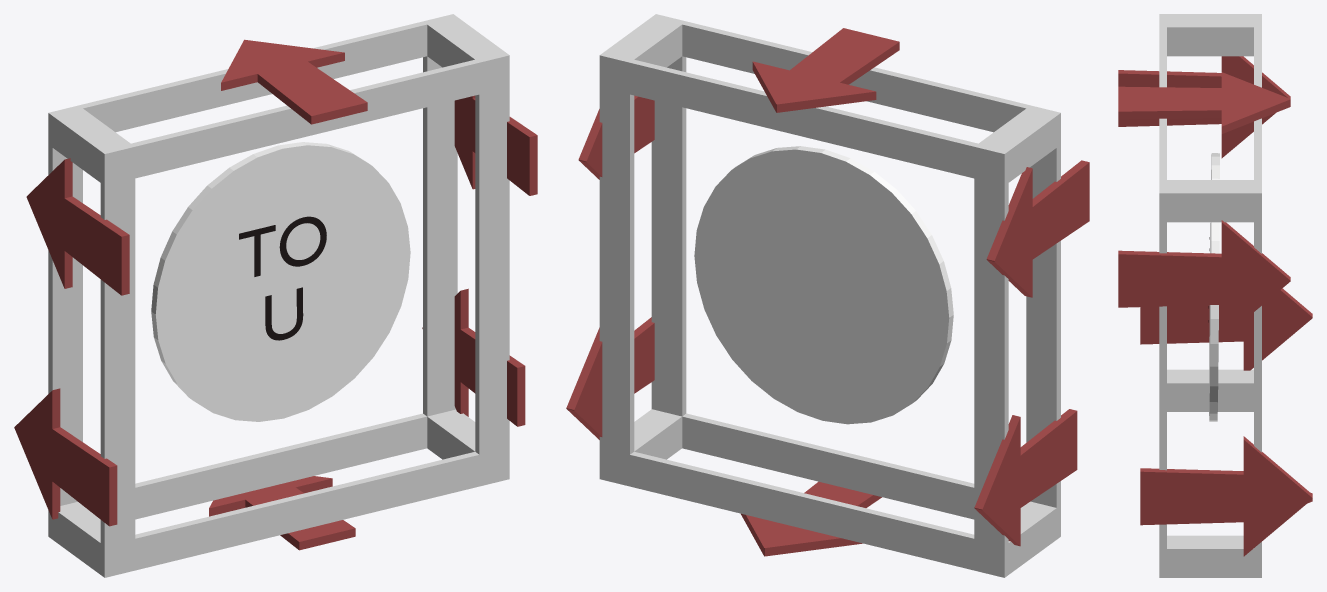
File: ToU.glb
3 views of the same model, side by side, from view 1: azimuth 30°, elevation 25°; view 2: azimuth 150°, elevation 25°; view 3: azimuth 270°, elevation 25° (orthographic). The views are drawn at different scales.
Parts seen in each view (by area): view 1: Cube, Cylinder.001, Cube.001, Cube.010, Cube.012, Cube.008, Cube.003, Cube.004, Text; view 2: Cube, Cylinder.001, Cube.001, Cube.010, Cube.012, Cube.003, Cube.004, Cube.008; view 3: Cube, Cube.003, Cube.008, Cube.012, Cube.001, Cube.010, Cylinder.001.
Part boxes in pixels (left/top/right/bottom): Cube: left=48, top=14, right=509, bottom=577; Cylinder.001: left=151, top=142, right=410, bottom=421; Cube.001: left=14, top=388, right=117, bottom=526; Cube.010: left=26, top=158, right=129, bottom=295; Cube.012: left=221, top=39, right=367, bottom=124; Cube.008: left=454, top=95, right=537, bottom=195; Cube.003: left=422, top=288, right=525, bottom=426; Cube.004: left=209, top=476, right=355, bottom=550; Text: left=239, top=216, right=326, bottom=340; Cube: left=599, top=14, right=1060, bottom=577; Cylinder.001: left=694, top=146, right=953, bottom=424; Cube.001: left=974, top=409, right=1077, bottom=546; Cube.010: left=986, top=160, right=1089, bottom=297; Cube.012: left=752, top=28, right=899, bottom=112; Cube.003: left=566, top=317, right=654, bottom=439; Cube.004: left=741, top=481, right=881, bottom=556; Cube.008: left=578, top=95, right=654, bottom=179; Cube: left=1159, top=14, right=1261, bottom=577; Cube.003: left=1140, top=436, right=1312, bottom=556; Cube.008: left=1118, top=220, right=1290, bottom=338; Cube.012: left=1118, top=72, right=1290, bottom=133; Cube.001: left=1140, top=288, right=1312, bottom=370; Cube.010: left=1118, top=56, right=1290, bottom=158; Cylinder.001: left=1209, top=153, right=1219, bottom=421.
Bounding box in the file's own units: 2.05 × 2.09 × 0.9171.
